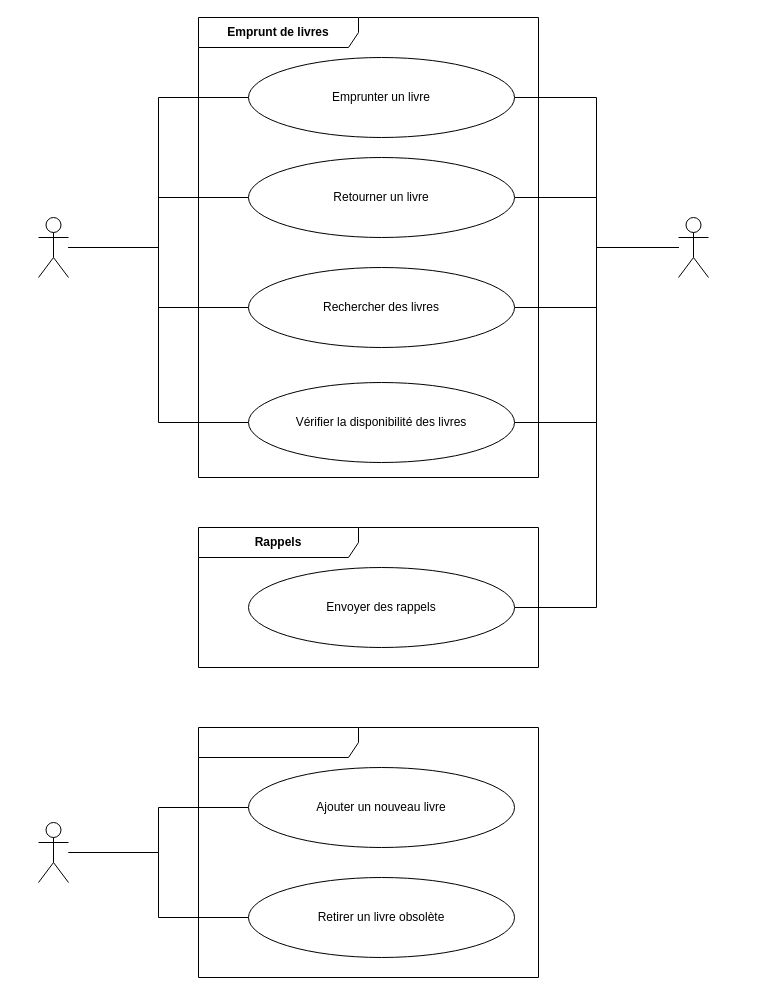
The diagram is 764 pixels wide and 995 high, and some of its shapes have lost their labels. The shapes that lost their labels are listed below. From the top down, each one's centre as x and y in pixels, then its label:
[53,247]: Lecteur
[693,247]: Système de Gestion
[53,852]: Bibliothécaire
[368,852]: Gestion des livres
